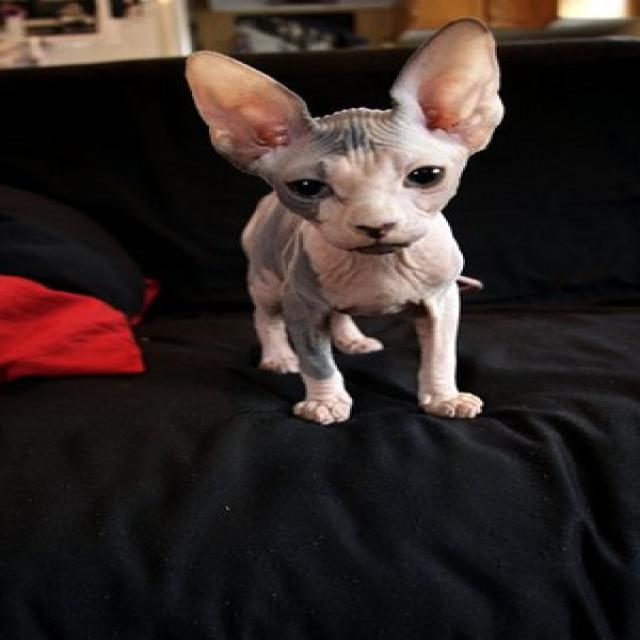Sphynx: (178, 14, 510, 430)
